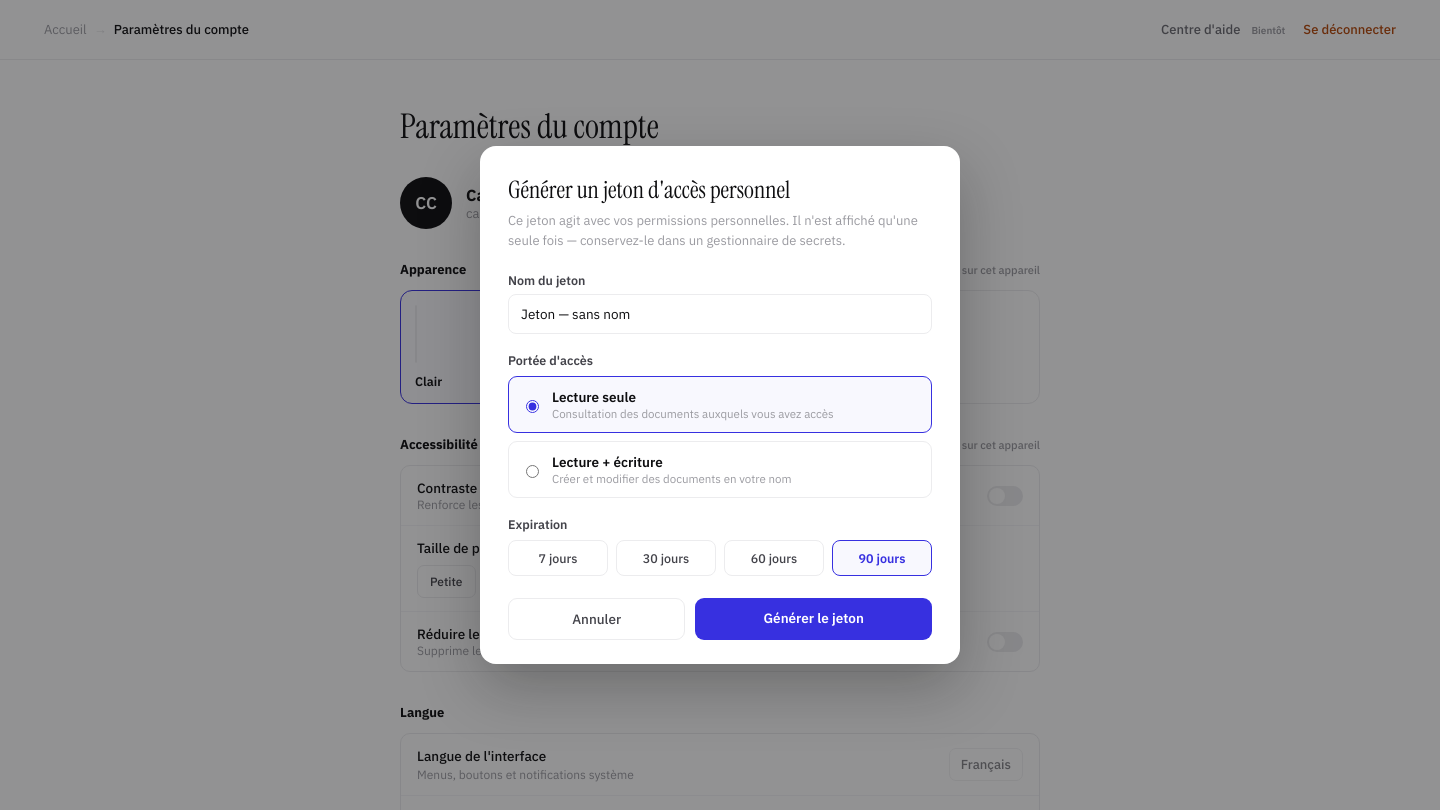
AccountPage › jetons d’accès personnels › génération : limite atteinte → message pat_limit_reached
The image size is (1440, 810).
Click the button "Générer le jeton" at (814, 619), box [695,598,932,640]
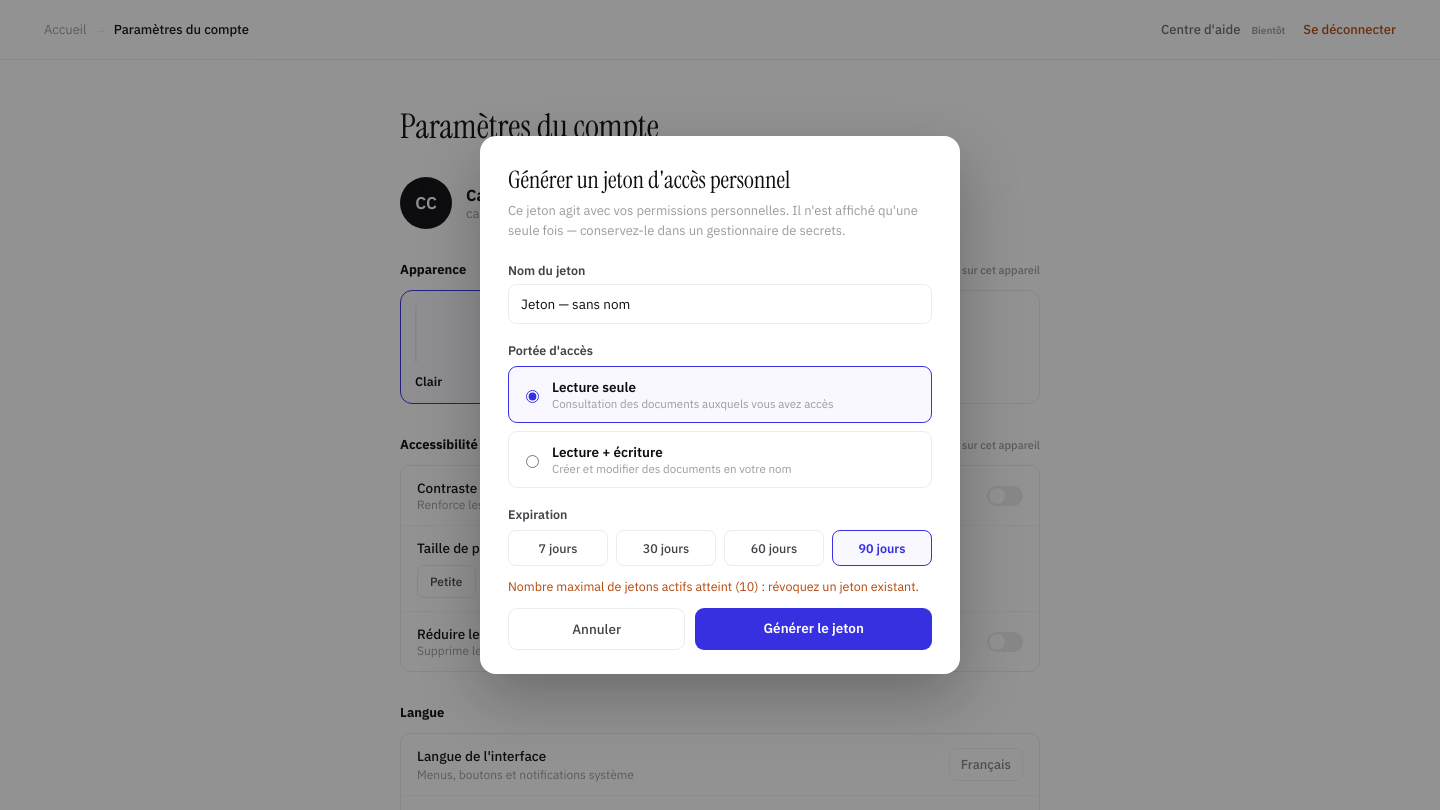
expect the message shows "Nombre maximal de jetons actifs atteint": met, box [508,578,919,594]
